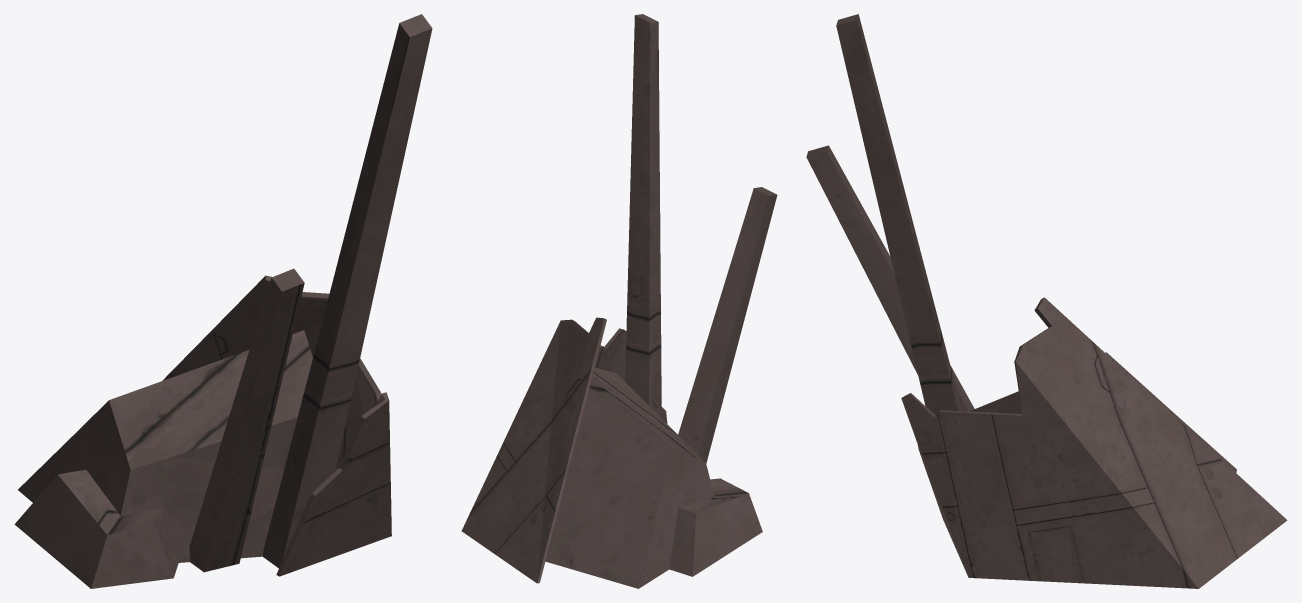
The model's file is Cluster02.fbx.
3 renders of one model, left to right at view 1: azimuth 30°, elevation 25°; view 2: azimuth 150°, elevation 25°; view 3: azimuth 270°, elevation 25°, orthographic. The views are drawn at different scales.
Visible parts, largest first — view 1: SM_ENV_STRUCT_ScrapYard_Debris_Cluster_02.mo; view 2: SM_ENV_STRUCT_ScrapYard_Debris_Cluster_02.mo; view 3: SM_ENV_STRUCT_ScrapYard_Debris_Cluster_02.mo.
Part boxes in pixels (x1,y1,x2,y2): SM_ENV_STRUCT_ScrapYard_Debris_Cluster_02.mo: (14,14,432,588); SM_ENV_STRUCT_ScrapYard_Debris_Cluster_02.mo: (461,14,777,588); SM_ENV_STRUCT_ScrapYard_Debris_Cluster_02.mo: (806,14,1287,588).
Size of the model in its own units: 437 by 787 by 630.
2 materials, 2 textured.
